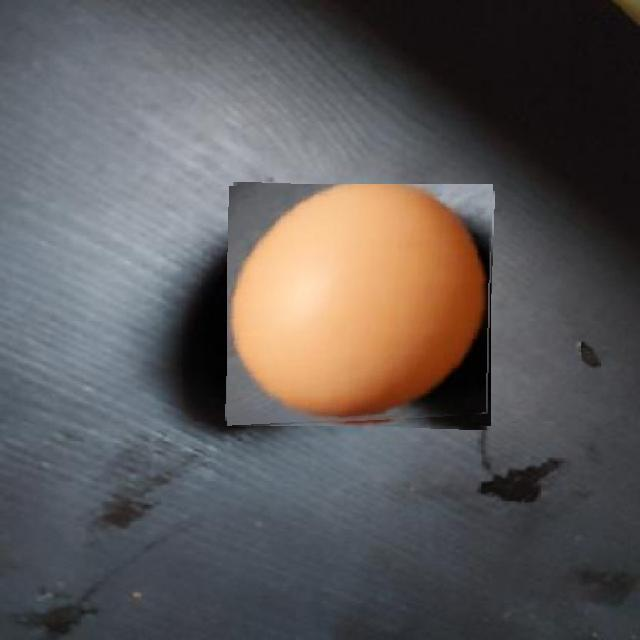biodegradable: (227, 184, 493, 428)
